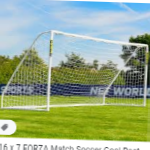goals: (1, 28, 150, 112)
